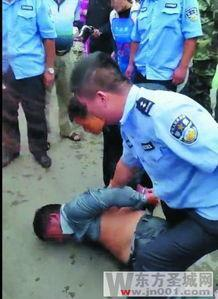Fall-Detected: (30, 174, 184, 275)
